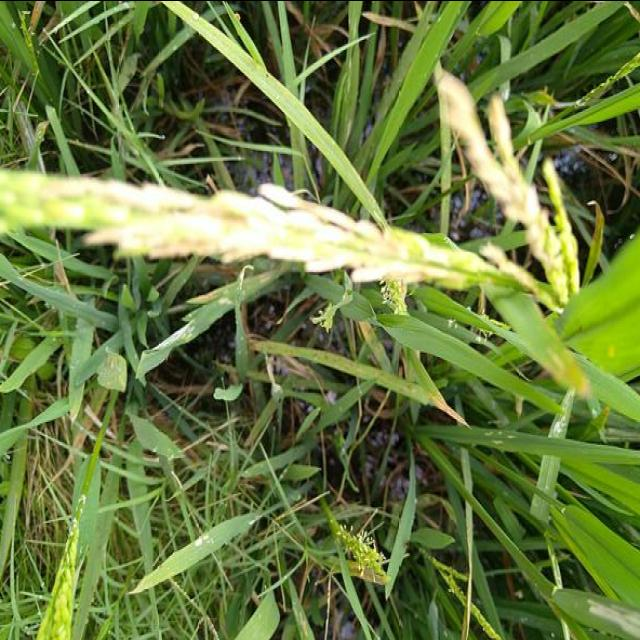Panicle Blight: (119, 183, 373, 271), (434, 63, 538, 226)
